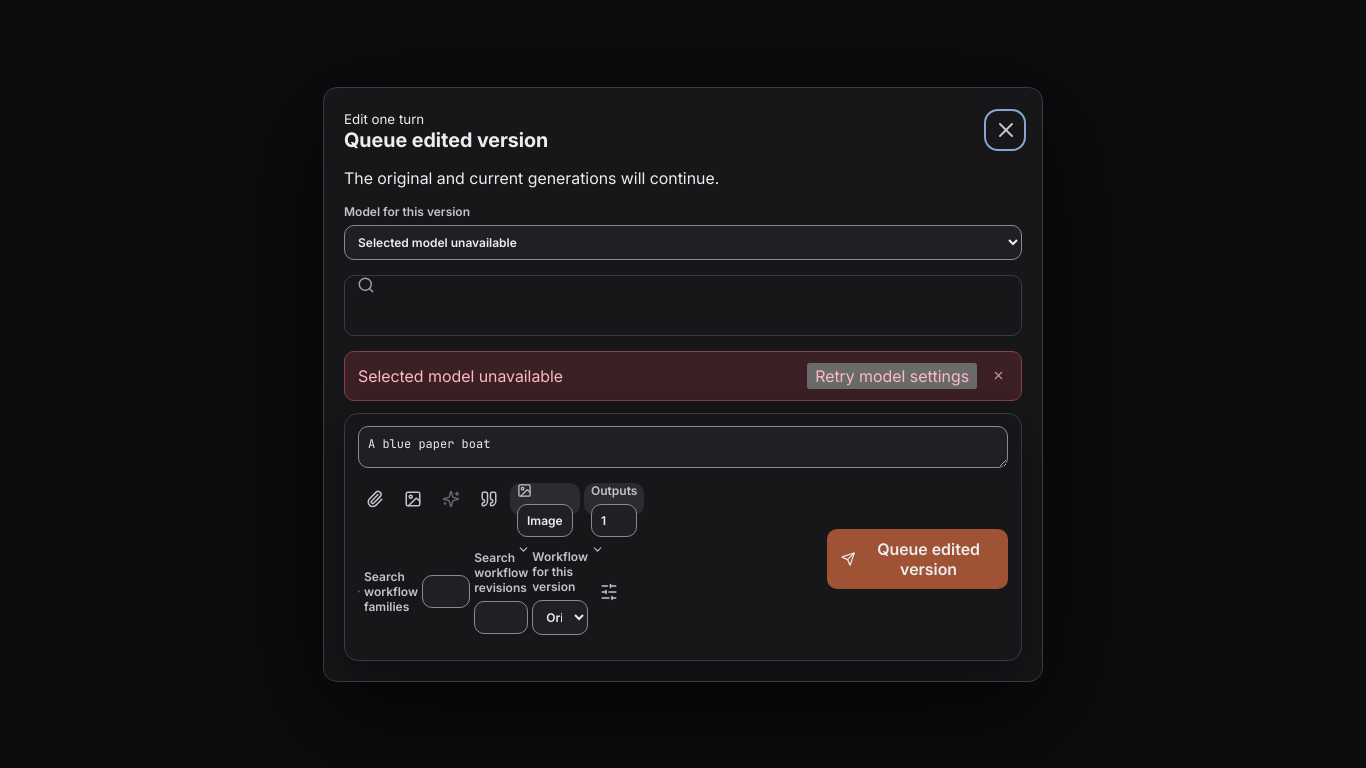
Test: retains an explicit model while its exact read is failed
This screenshot has width=1366, height=768.
Expected: the text box named "Message" is shown, x1=358 y1=426 x2=1008 y2=468
Expected: the dropdown labelled "Model for this version" shows "Selected model unavailable", x1=344 y1=224 x2=1022 y2=260
What coordinates should you click on to do the following:
click the button named "Turn settings"
I would click on:
 (609, 592)
Its box is x1=592 y1=574 x2=626 y2=608.
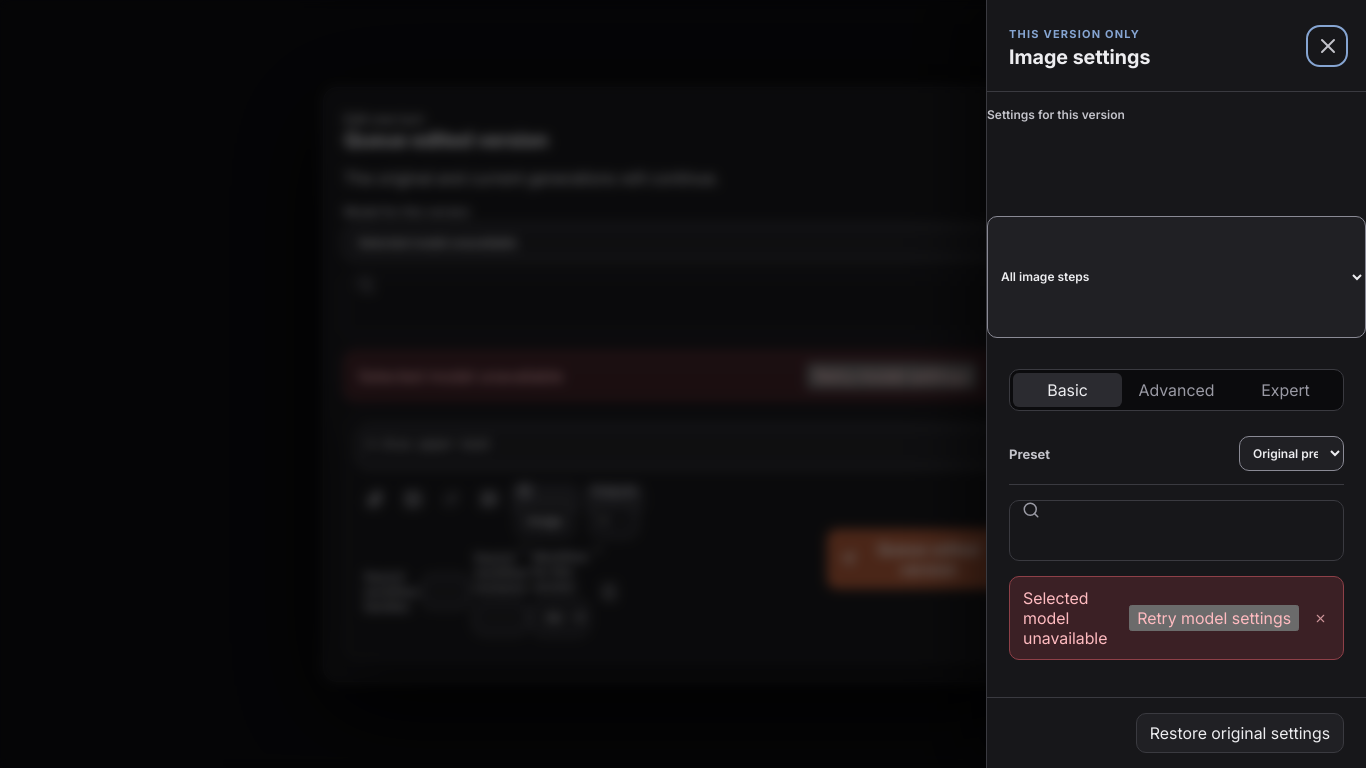
What coordinates should you click on to do the following:
click the button named "Close settings"
I would click on:
 (1327, 46)
Its box is x1=1310 y1=28 x2=1344 y2=62.
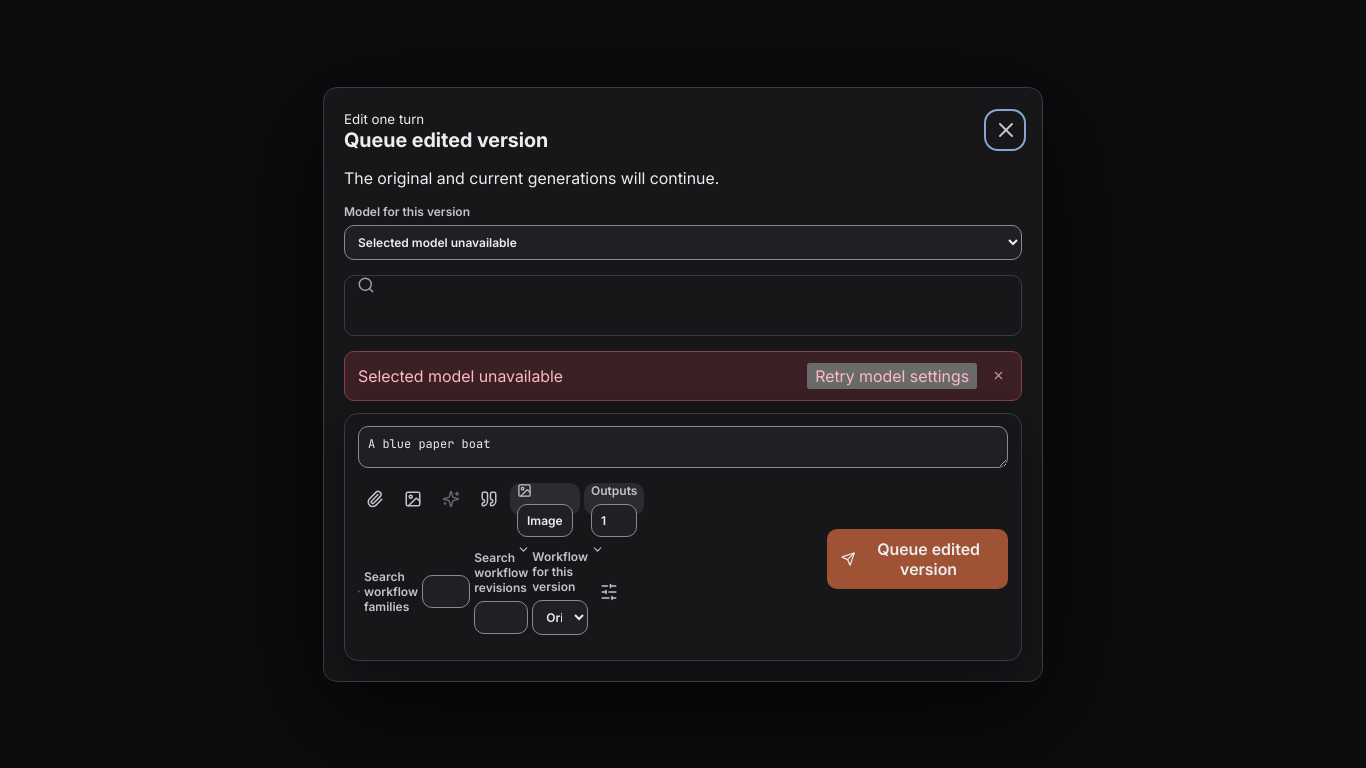
What coordinates should you click on to do the following:
click the button "Queue edited version"
I would click on:
 (917, 558)
Its box is x1=827 y1=528 x2=1008 y2=588.
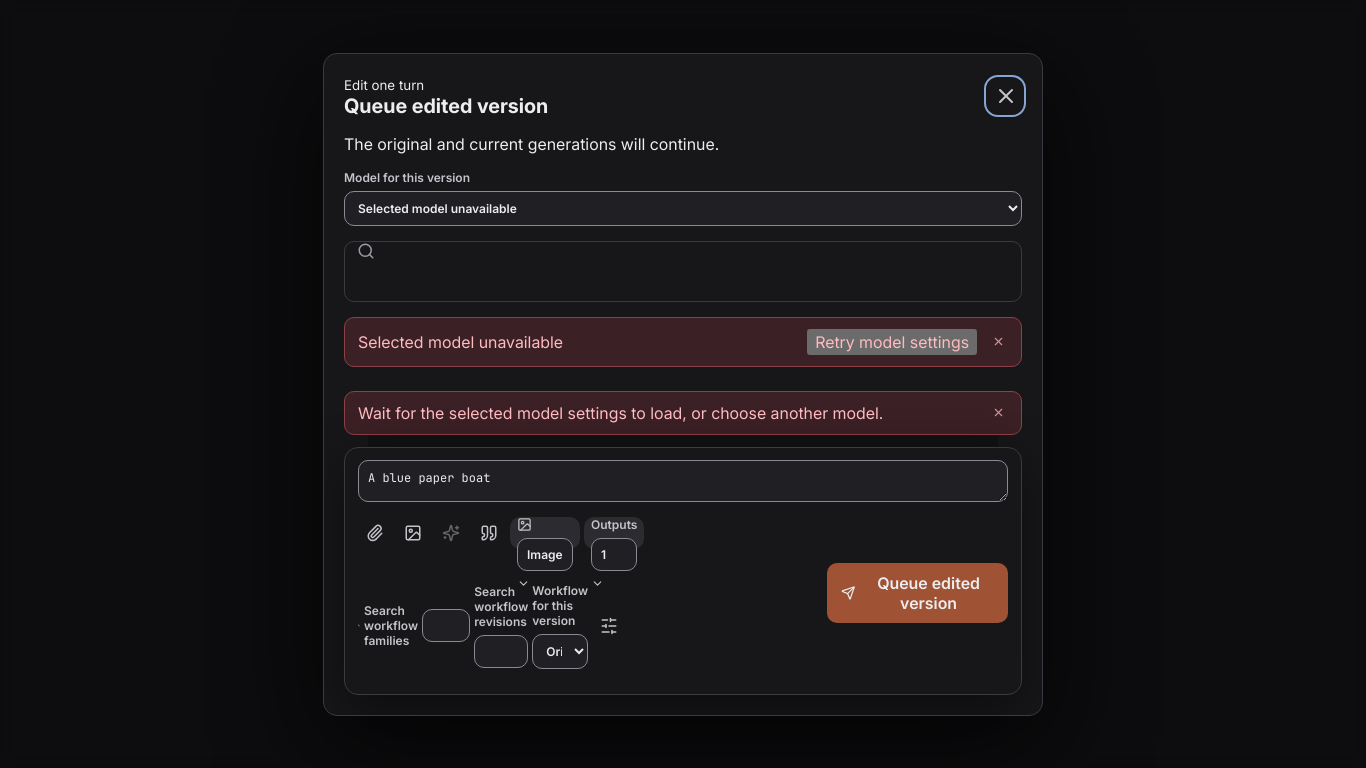
Expected: the text "Wait for the selected model settings to load, or choose another model." is shown, x1=358 y1=402 x2=883 y2=422
What coordinates should you click on to do the following:
click the button "Retry model settings"
I would click on:
 (892, 342)
Its box is x1=807 y1=328 x2=977 y2=354.
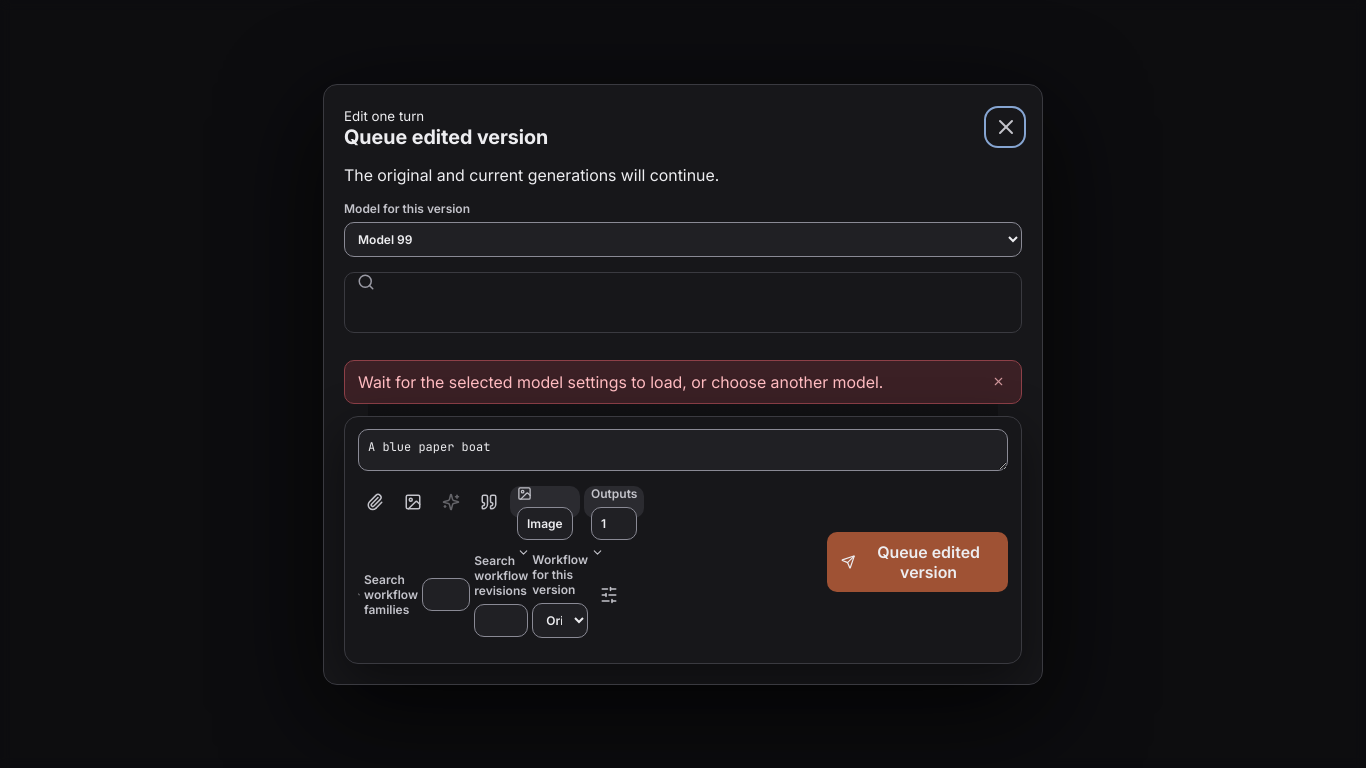
What coordinates should you click on to do the following:
click the button "Queue edited version"
I would click on:
 (917, 562)
Its box is x1=827 y1=532 x2=1008 y2=592.
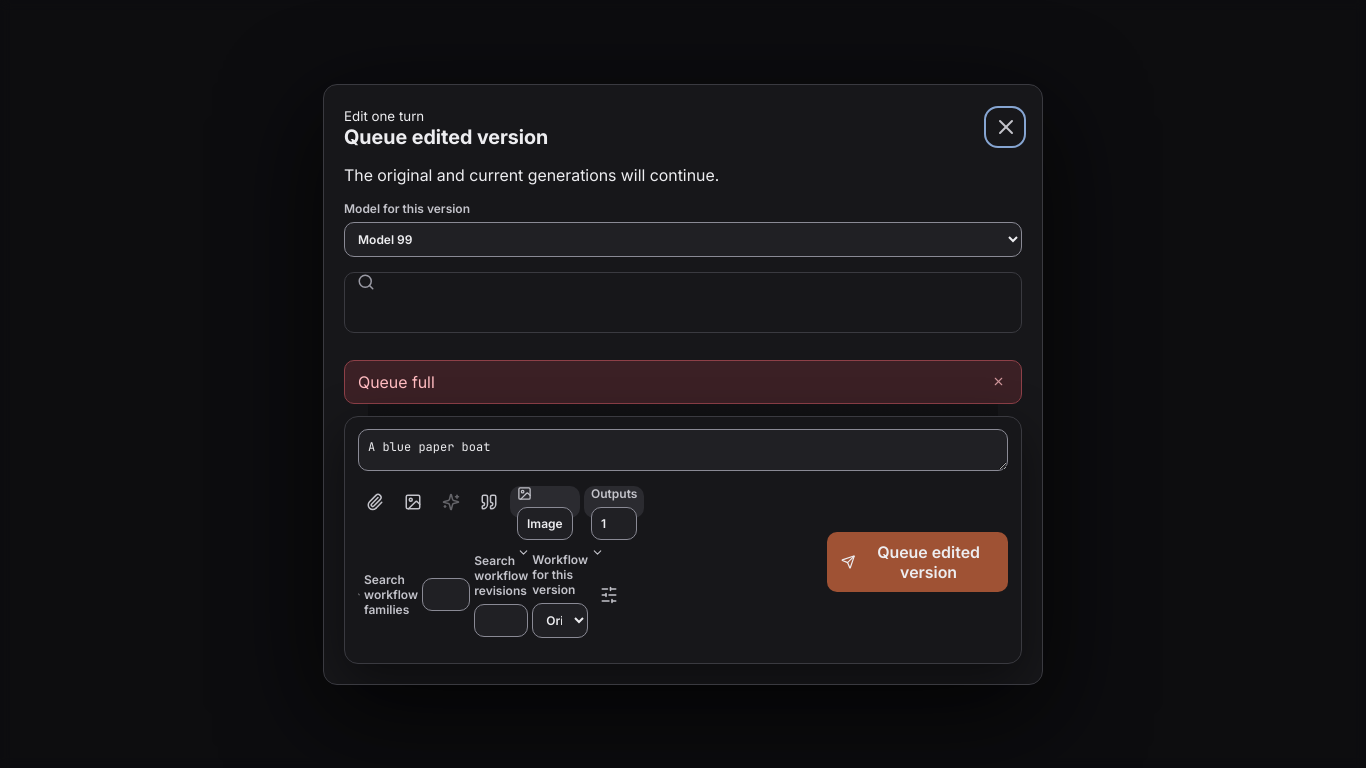
Expected: the text "Queue full" is shown, x1=358 y1=372 x2=435 y2=392
